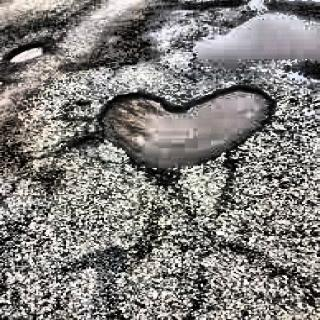pothole: (90, 79, 276, 185), (182, 5, 320, 79), (0, 38, 56, 67)
